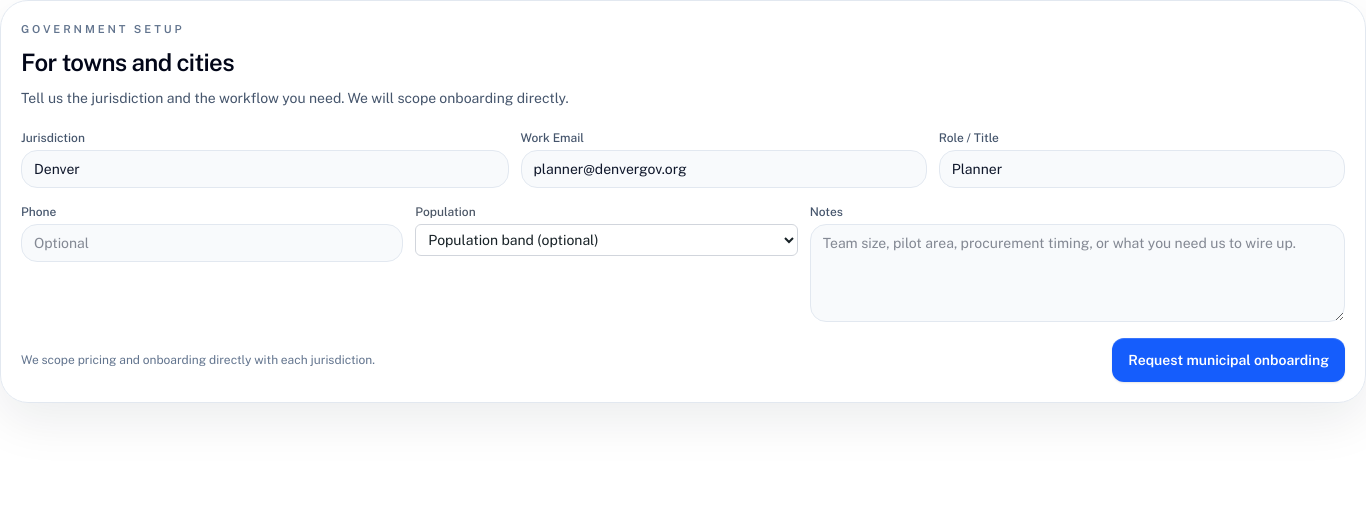
government onboarding request › preserves a rejected draft and lets the requester retry
Click the button "Request municipal onboarding".
click(1229, 360)  # box [1112,338,1345,382]
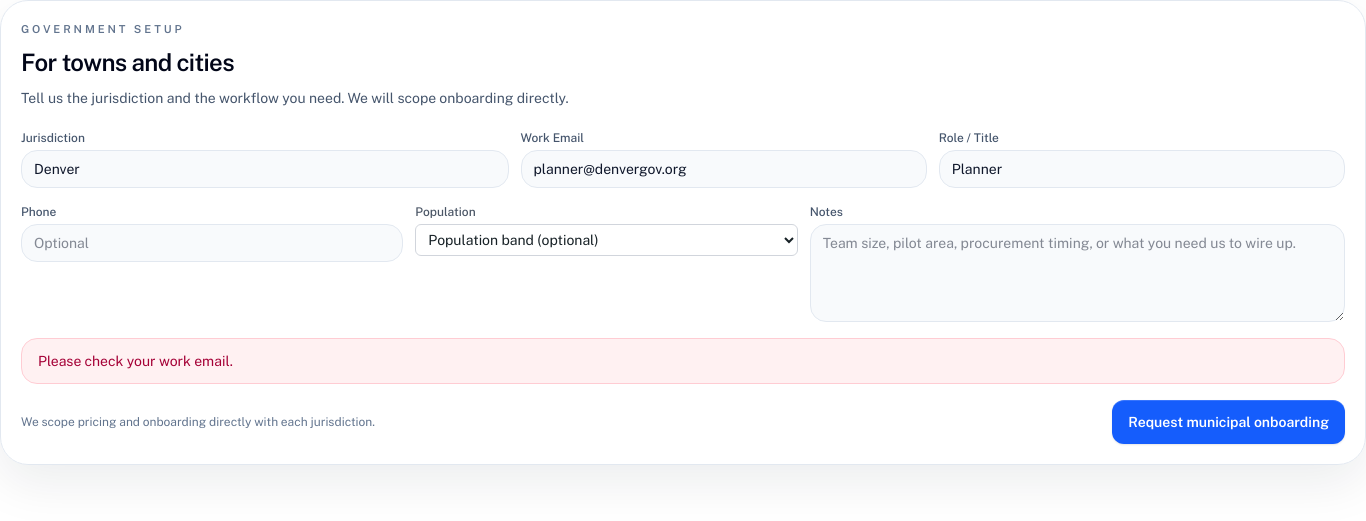
Expected: the field labelled "Jurisdiction" holds "Denver", [21,150,508,188]
Expected: the text "Please check your work email." is shown, [21,338,1345,384]
Click the button "Request municipal onboarding".
click(1229, 422)  # box [1112,400,1345,444]
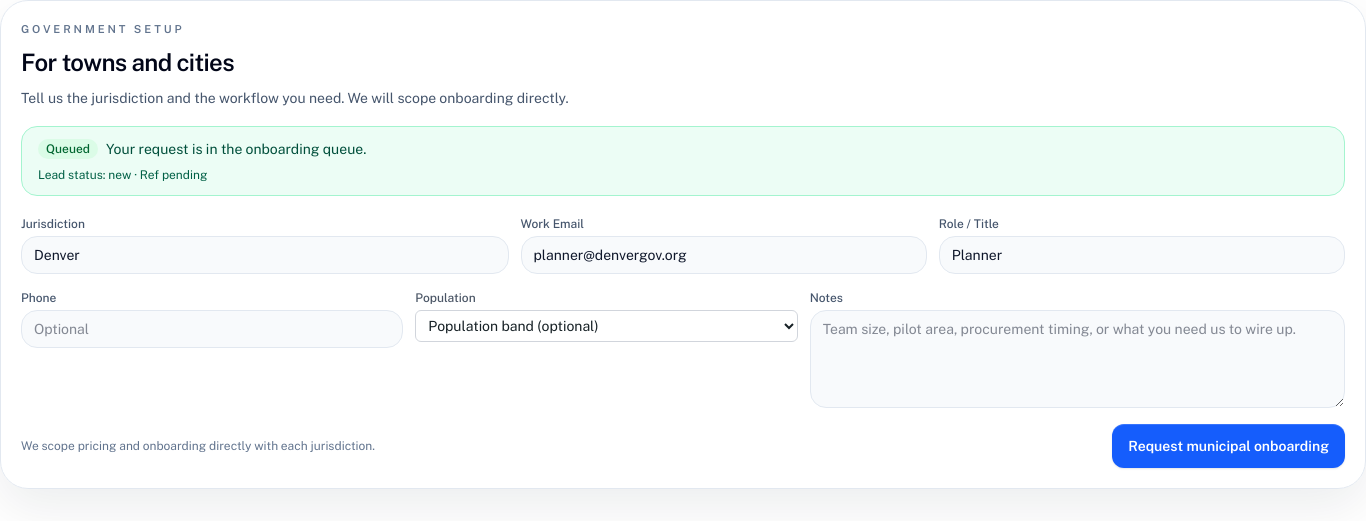
Expected: the text "Lead status: new · Ref pending" is shown, [38,168,208,182]
